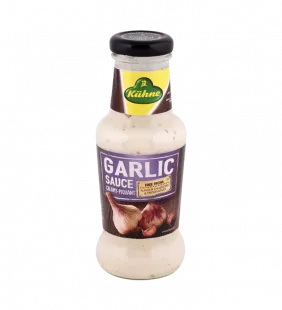KÜHNE: (84, 20, 196, 291)
